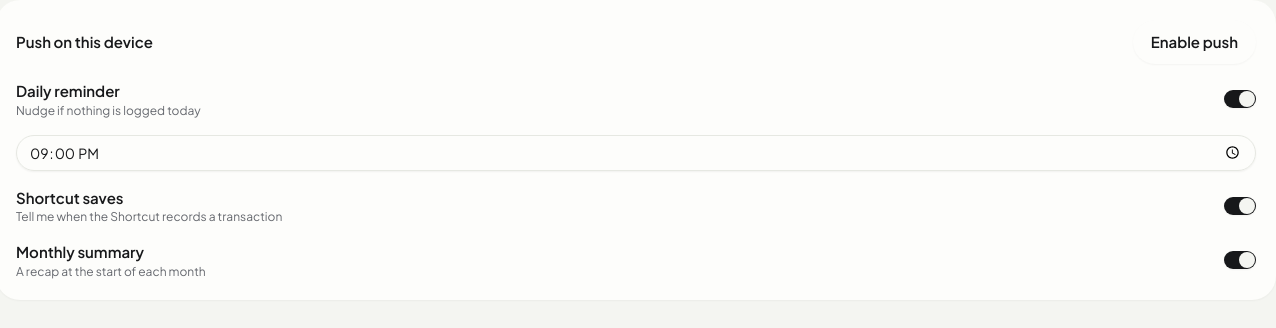
Test: NotificationSettings › shows a subscribe error
Click the button "Enable push". click: (1194, 42)
box: [1133,20,1256,64]
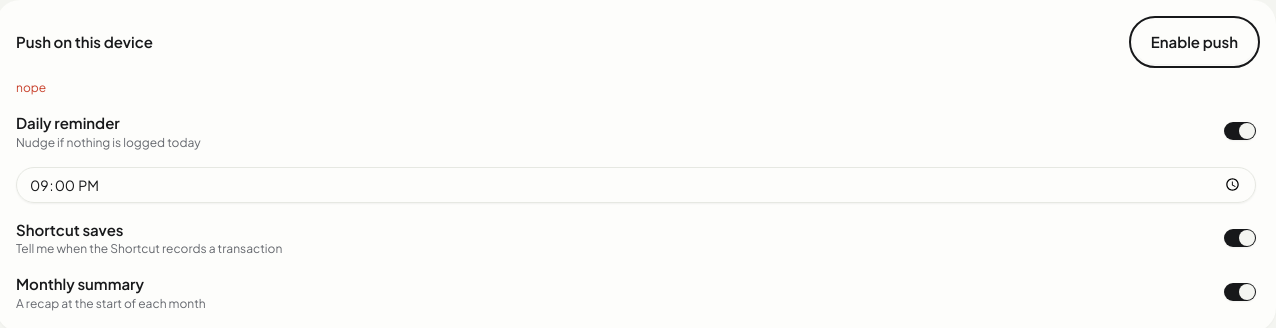
Check: the message reads "nope", box [16,80,46,95]
